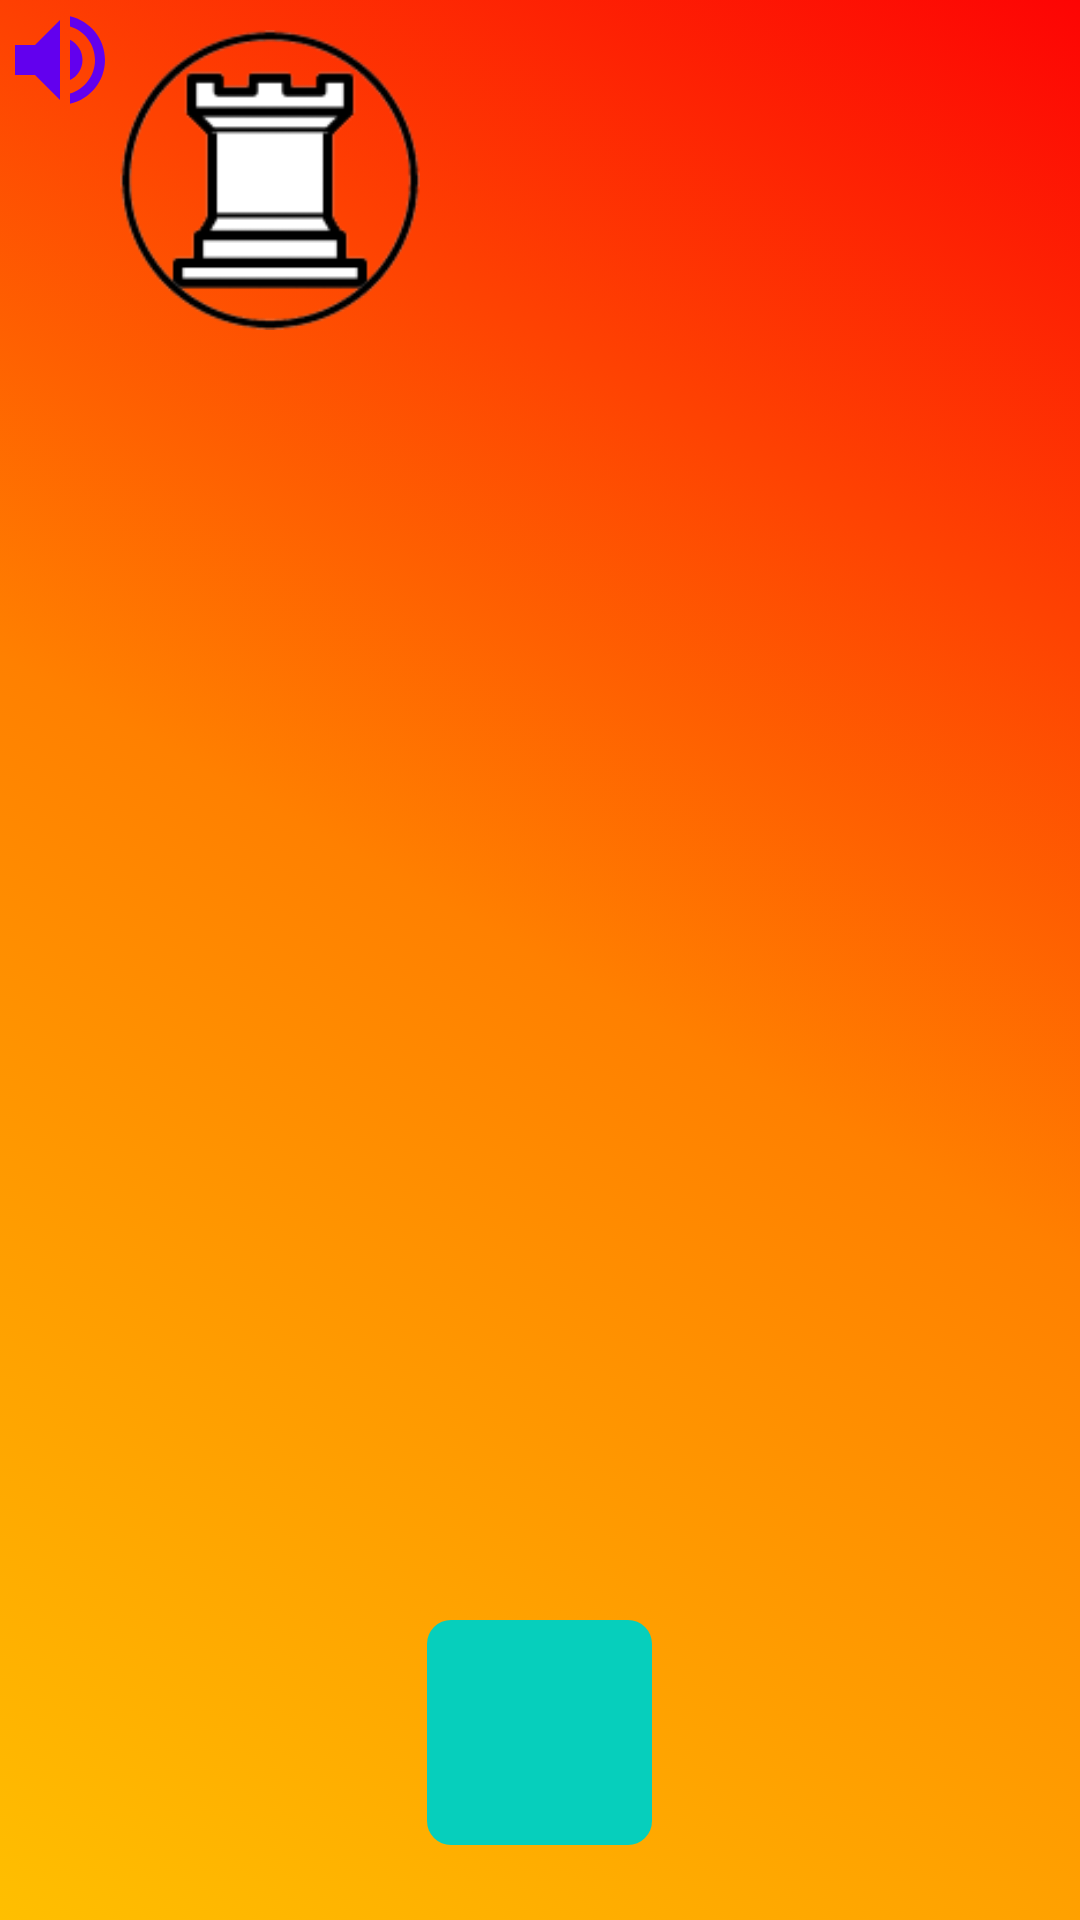

Where icons sit on this 1080px×1920px app screen, as (x1, y1, x2, y2):
volume up: (15, 16, 105, 104)
